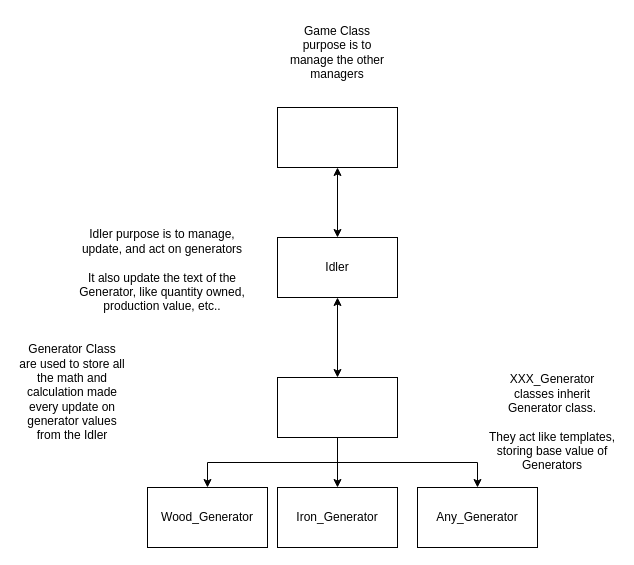
Image size: 634x565. Some labels were removed from this diagram. The shapes that lost their labels are listed below. From the top down, each one's centre as x and y in pixels, then its label:
[337,137]: Game
[337,407]: Generator
